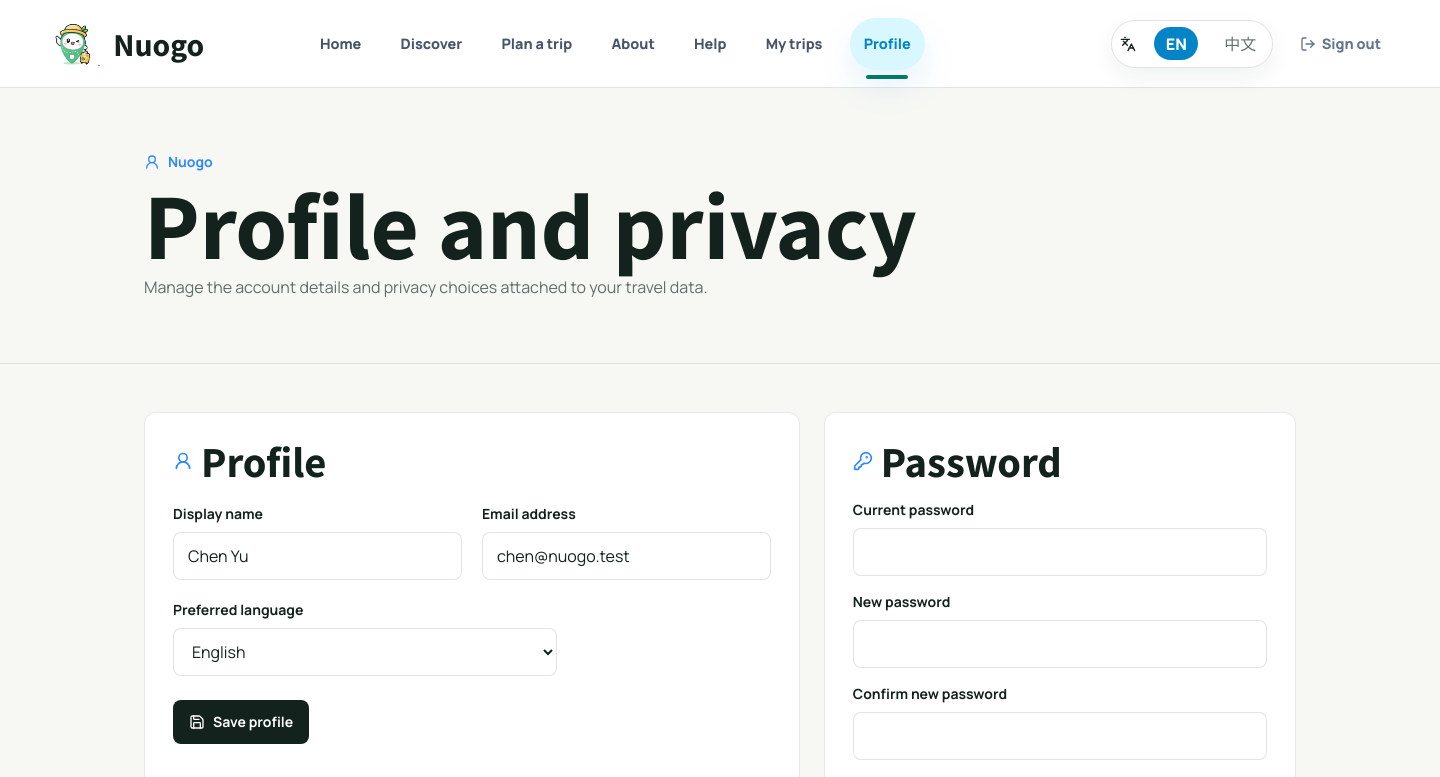
Test: ProfilePage › changes a registered password without clearing the active session
Check: the heading "Profile and privacy" is shown, box [144,163,917,283]
Type "Nuogo123!" into the password field labelled "Current password" at (1060, 552), box [853,528,1267,576]
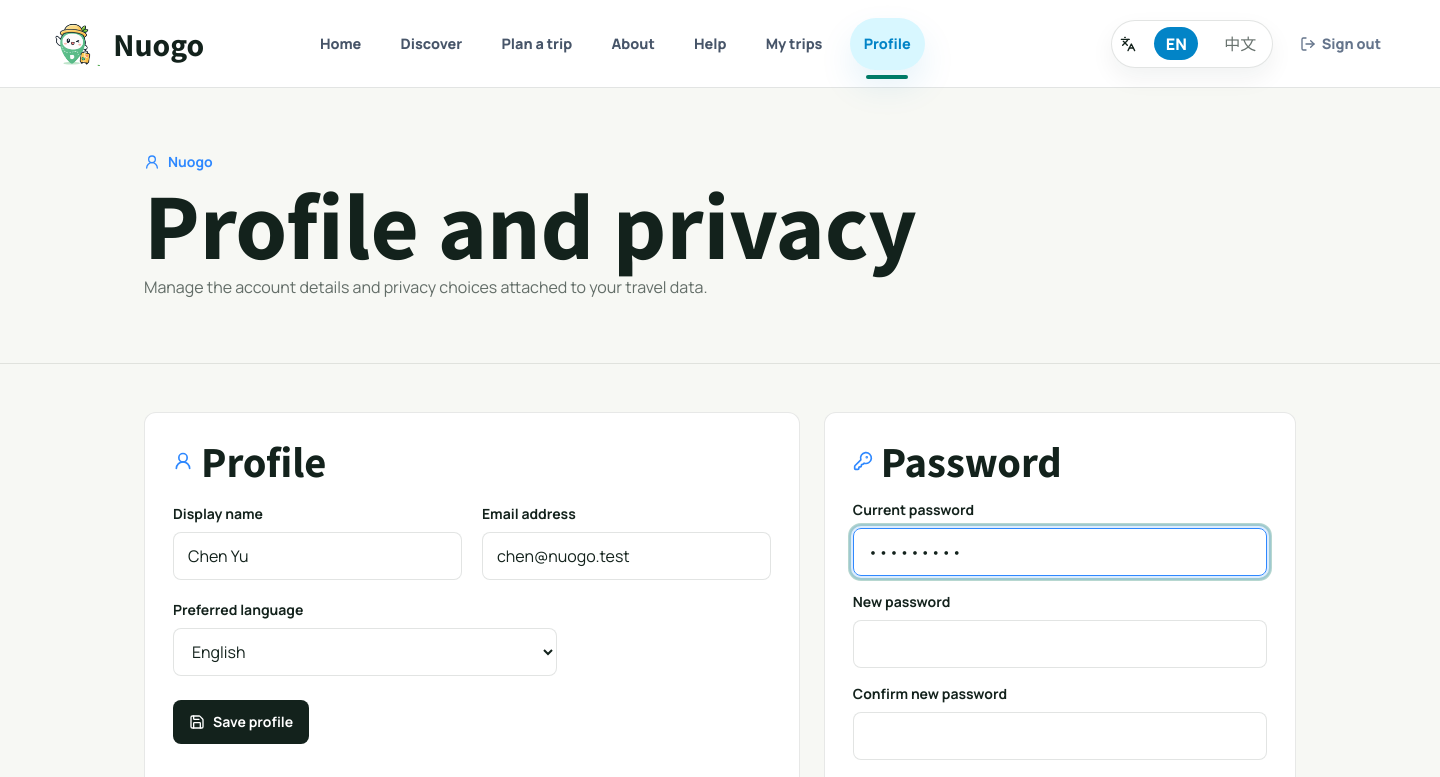
Type "NewNuogo456!" into the password field labelled "New password" at (1060, 644), box [853,620,1267,668]
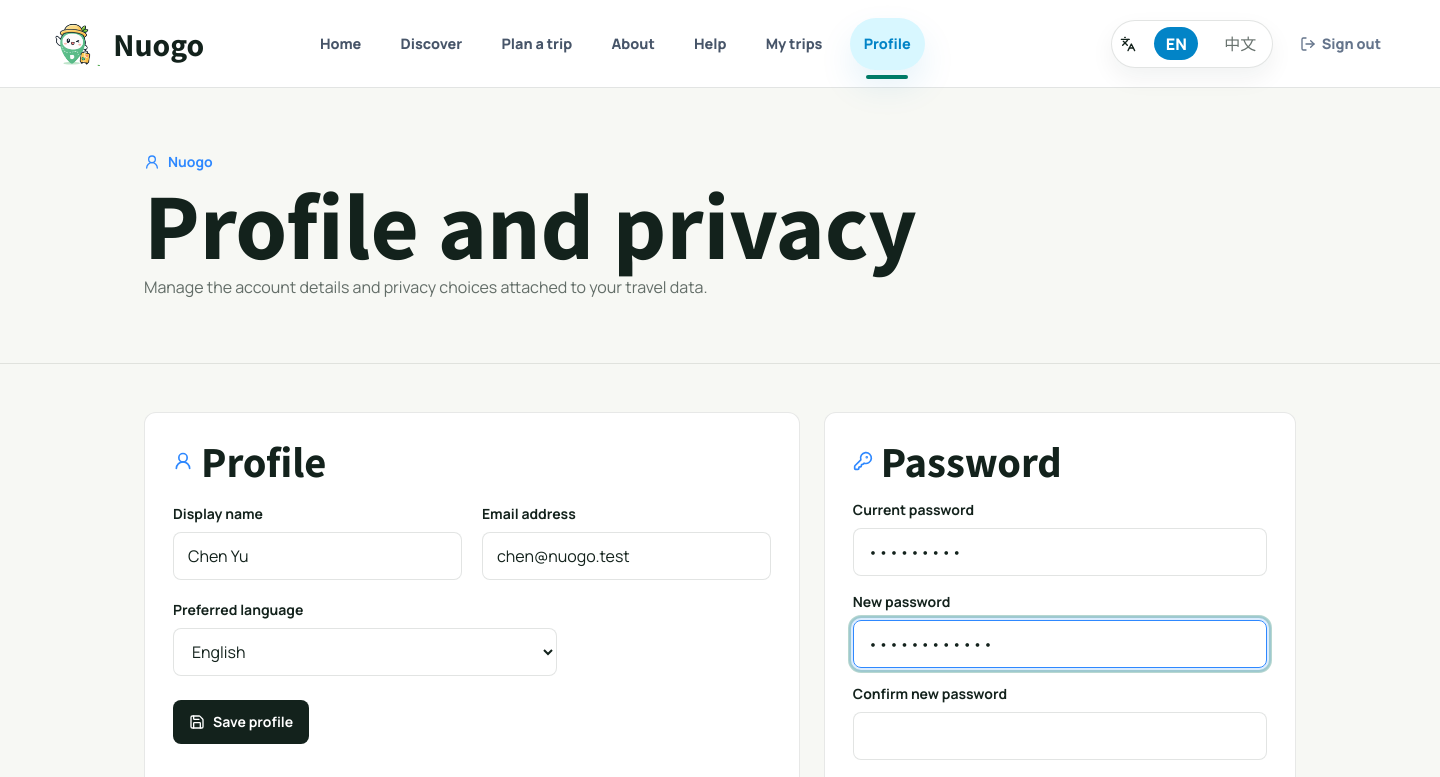
Type "NewNuogo456!" into the password field labelled "Confirm new password" at (1060, 736), box [853,712,1267,760]
(page scrolled)
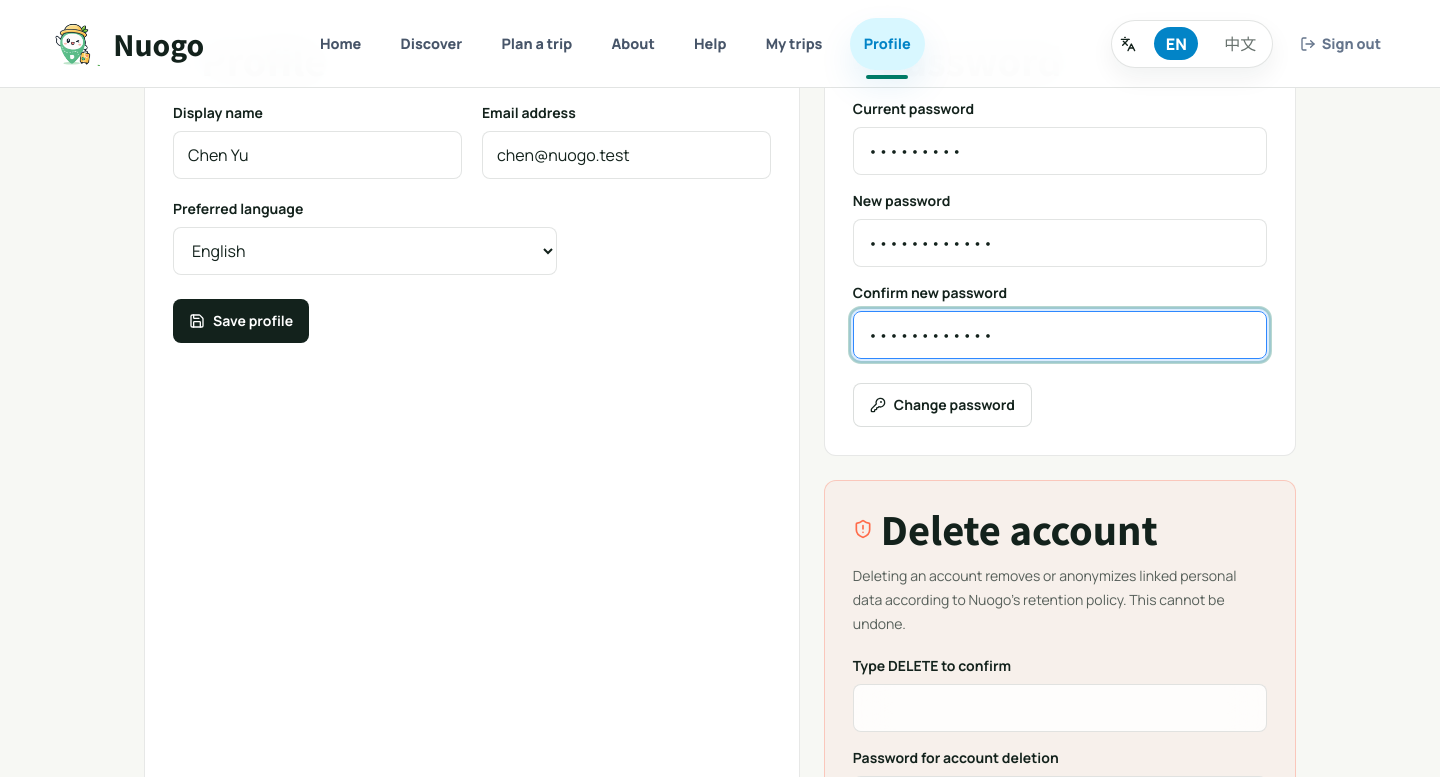
Click the button "Change password" at (942, 405), box [853,383,1032,427]
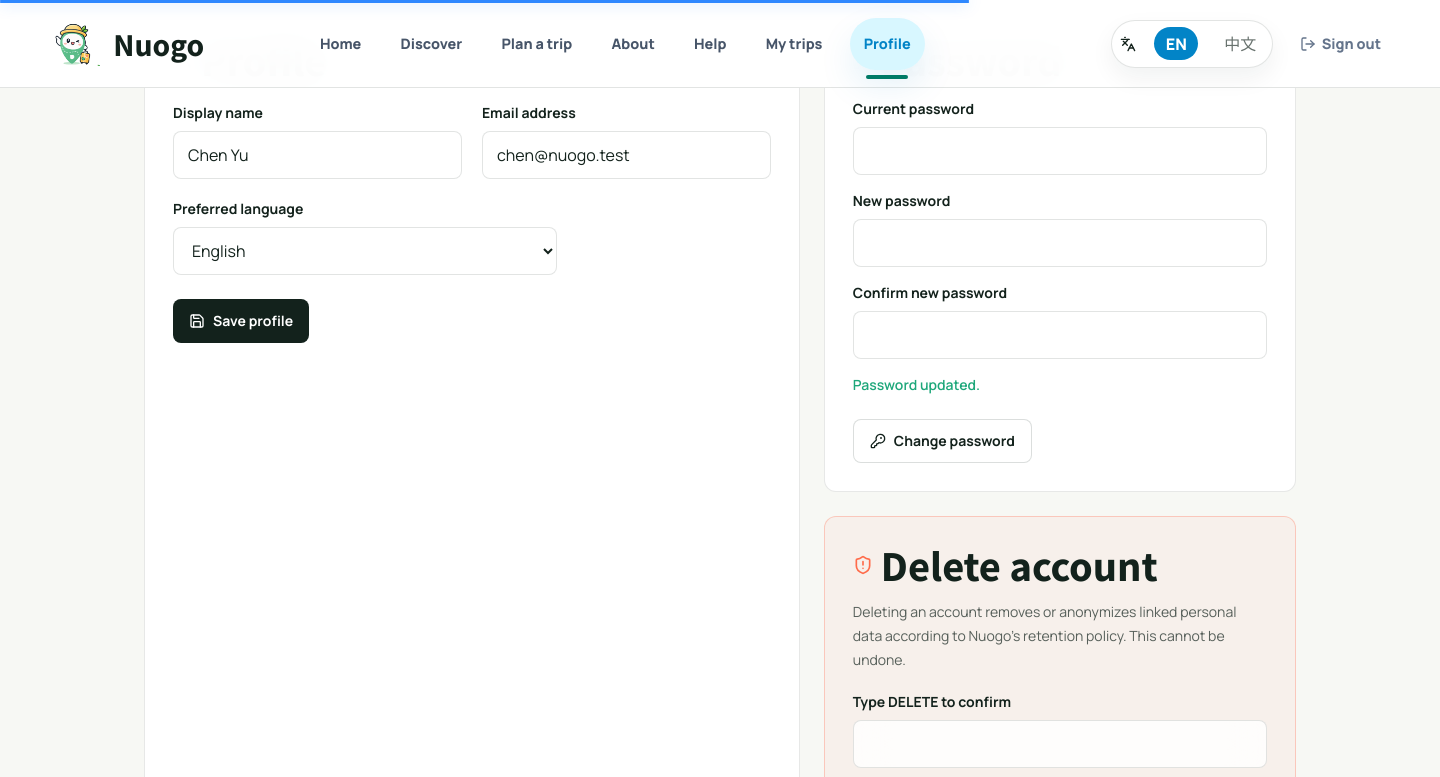
Check: the message reads "Password updated.", box [853,375,980,394]
